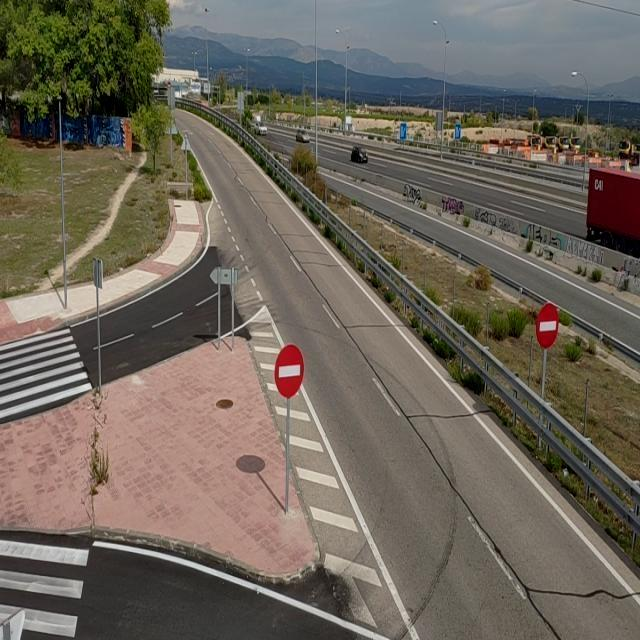Car: (351, 146, 369, 168), (294, 130, 314, 146), (254, 116, 268, 138)
Truck: (586, 175, 640, 237)
